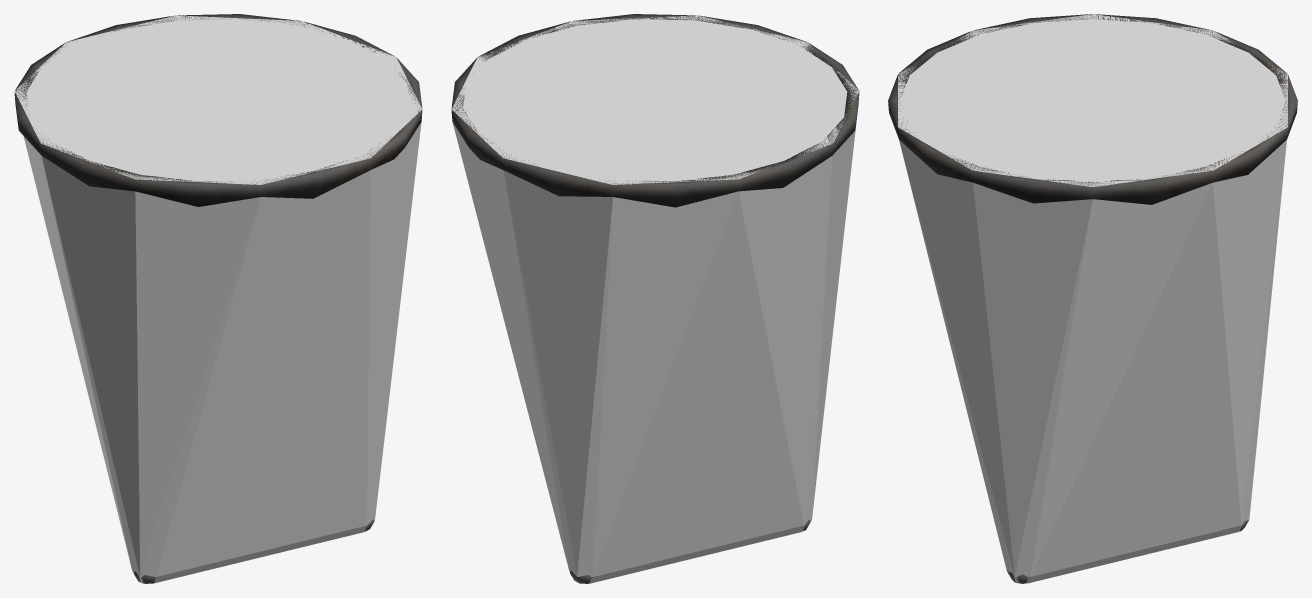
File: brazier_wall.webp.glb
3 views of the same model, side by side, from view 1: azimuth 30°, elevation 25°; view 2: azimuth 150°, elevation 25°; view 3: azimuth 270°, elevation 25° (orthographic).
Visible parts, largest first — view 1: COL, LOD0_body; view 2: COL, LOD0_body; view 3: COL, LOD0_body.
Boxes of the visible parts, x1=… form: COL: x1=14, y1=15, x2=422, y2=583; LOD0_body: x1=14, y1=14, x2=422, y2=583; COL: x1=452, y1=15, x2=859, y2=583; LOD0_body: x1=451, y1=14, x2=859, y2=583; COL: x1=898, y1=14, x2=1287, y2=583; LOD0_body: x1=888, y1=14, x2=1297, y2=583.
Size of the model in its own units: 0.9041 by 1.05 by 0.9041.
Materials: 2 (1 with a texture image).
